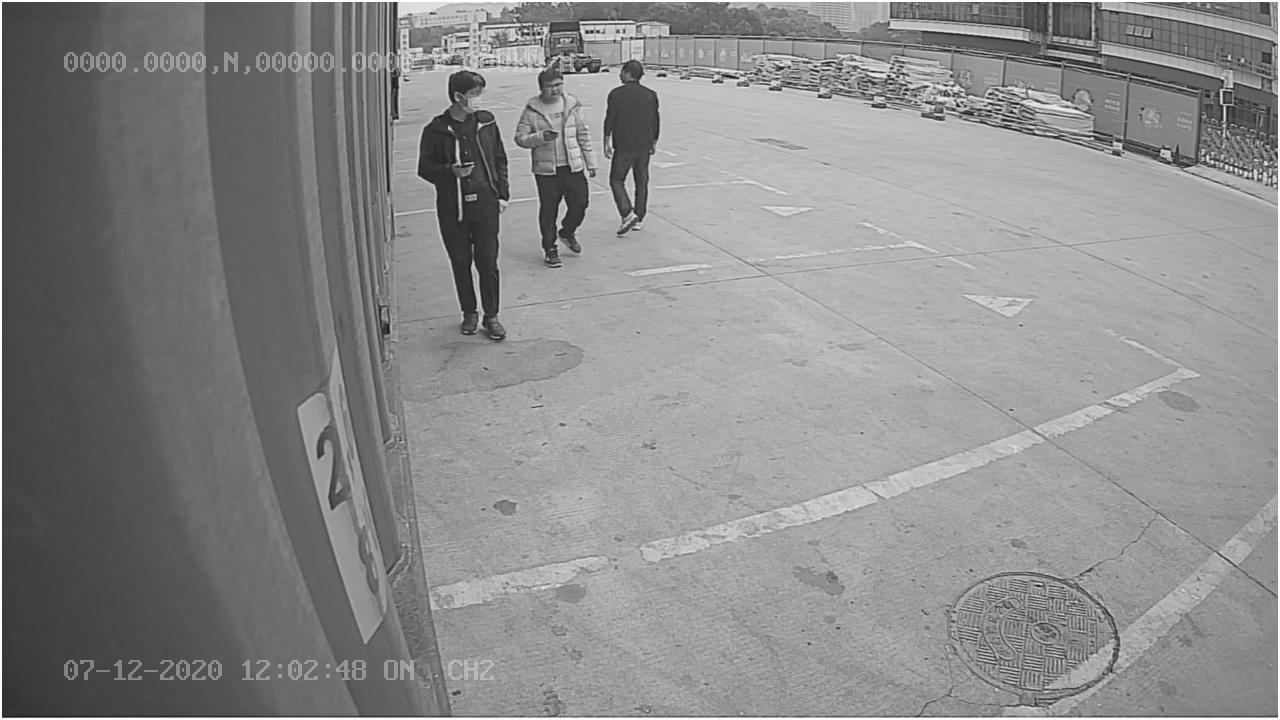person: (418, 67, 511, 343)
